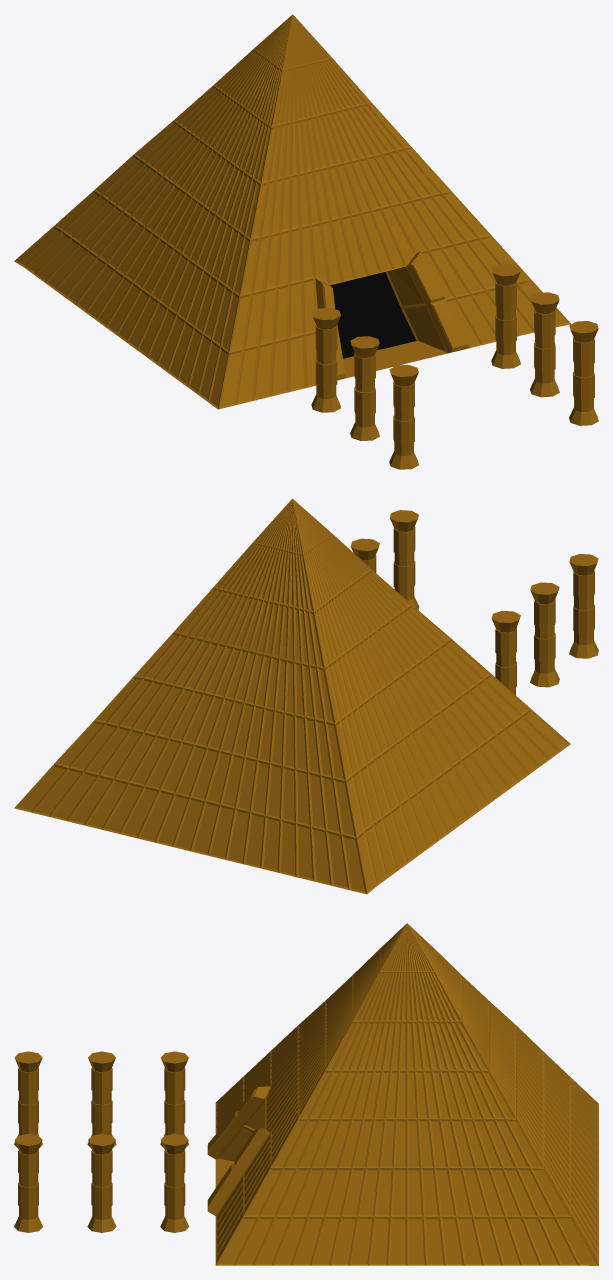
Rendered from Tile_Base_Aguia.FBX.
3 renders of one model, top to bottom at view 1: azimuth 30°, elevation 25°; view 2: azimuth 150°, elevation 25°; view 3: azimuth 270°, elevation 25°, orthographic. The views are drawn at different scales.
Parts seen in each view (by area): view 1: Pyramid001; view 2: Pyramid001; view 3: Pyramid001.
Part boxes in pixels (bbox=[...]): Pyramid001: bbox=[14, 14, 598, 469]; Pyramid001: bbox=[14, 498, 598, 894]; Pyramid001: bbox=[14, 923, 598, 1265].
Size of the model in its own units: 18.9 by 14.46 by 28.83.
